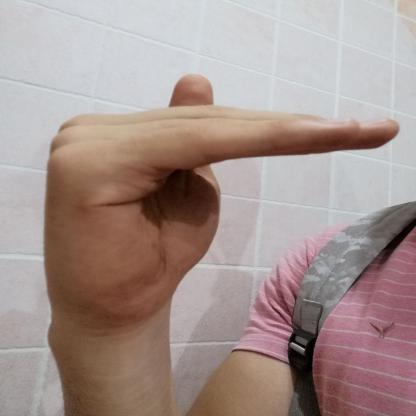KHAA: (19, 65, 411, 350)
